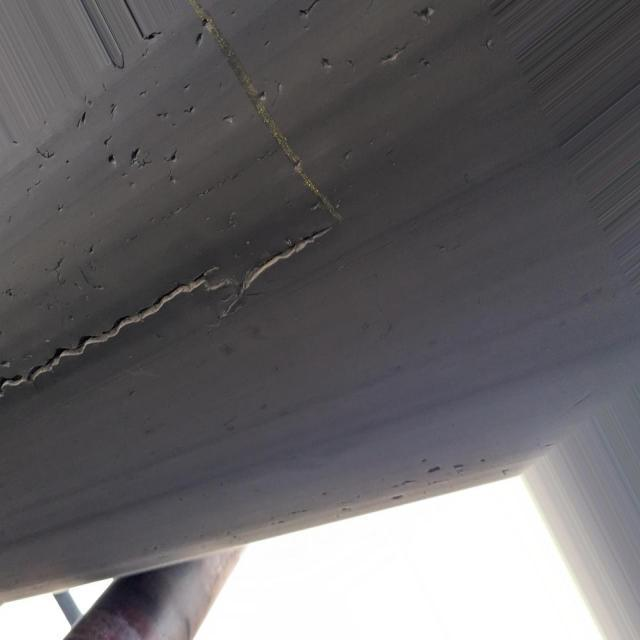Puncture: (376, 25, 411, 74), (412, 0, 443, 45), (295, 0, 331, 30), (188, 12, 213, 54), (97, 149, 125, 171), (156, 144, 184, 164), (319, 50, 337, 74), (128, 140, 146, 164), (248, 87, 271, 102)
Tear: (0, 218, 338, 409), (182, 3, 349, 222)
